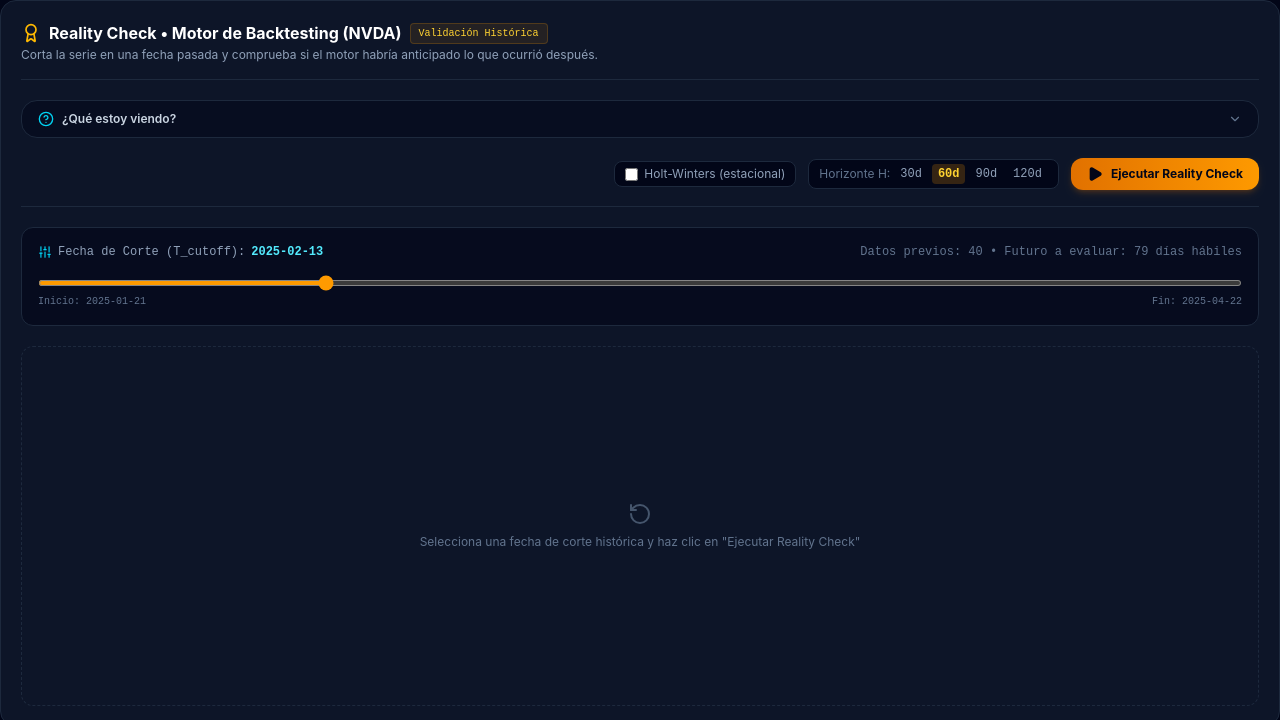
Test case: BacktestPanel › says the metrics are Holt's, why, and to retry on a one-off inference error
Click the button "Ejecutar Reality Check": x=1165, y=174 x1=1071 y1=158 x2=1259 y2=190
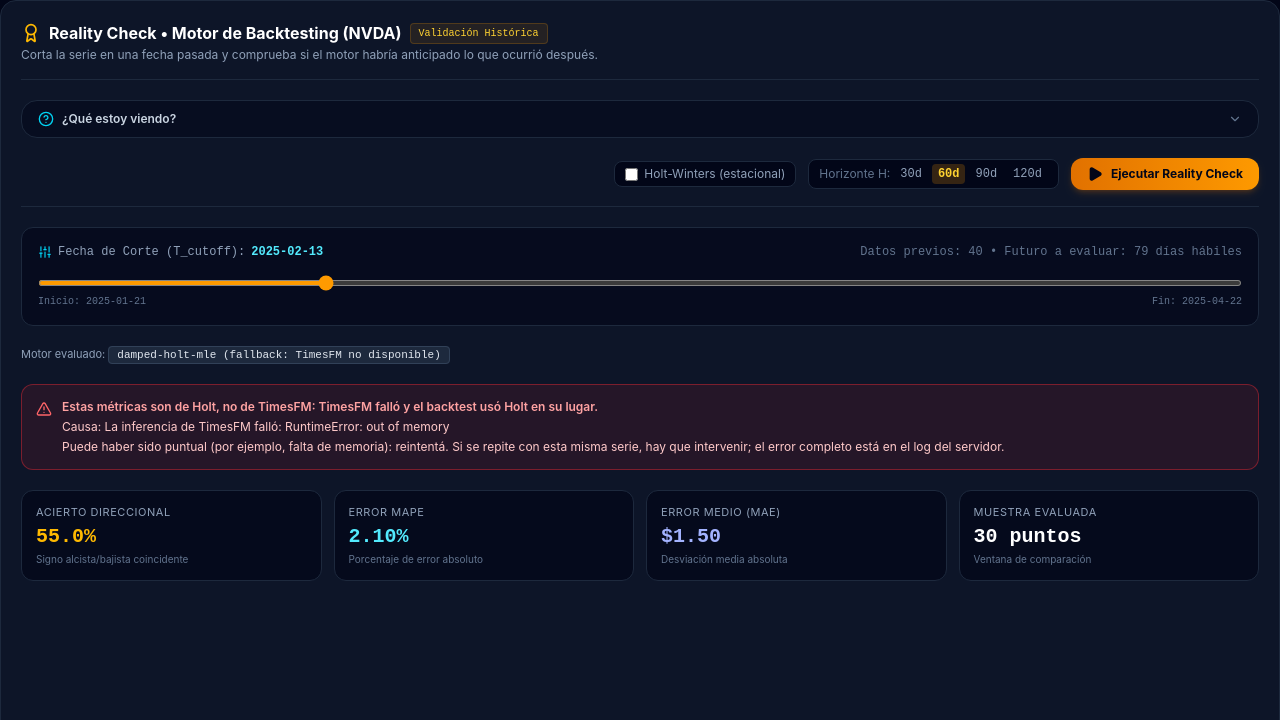
Check: the message shows "Estas métricas son de Holt, no de TimesFM", box x1=62 y1=398 x2=598 y2=414
Check: the message shows "Causa: La inferencia de TimesFM falló: RuntimeError: out of memory", box x1=21 y1=384 x2=1259 y2=470
Check: the message shows "reintentá", box x1=62 y1=438 x2=1004 y2=454
